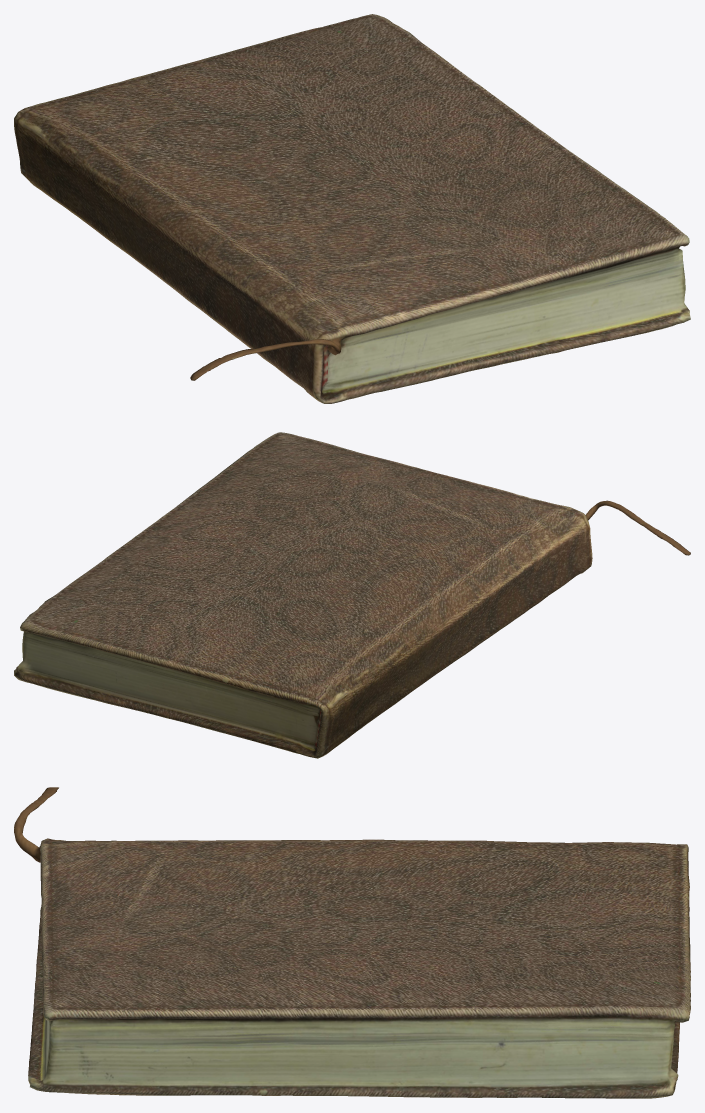
File: notebook.glb
3 renders of one model, top to bottom at view 1: azimuth 30°, elevation 25°; view 2: azimuth 150°, elevation 25°; view 3: azimuth 270°, elevation 25°, orthographic. The views are drawn at different scales.
Visible parts, largest first — view 1: Object_2; view 2: Object_2; view 3: Object_2.
Part boxes in pixels (x1,y1,x2,y2): Object_2: (14,14,690,403); Object_2: (14,432,690,758); Object_2: (14,787,690,1098).
Bounding box in the file's own units: 18.25 × 3.24 × 20.32.
Materials: 1 (1 with a texture image).
